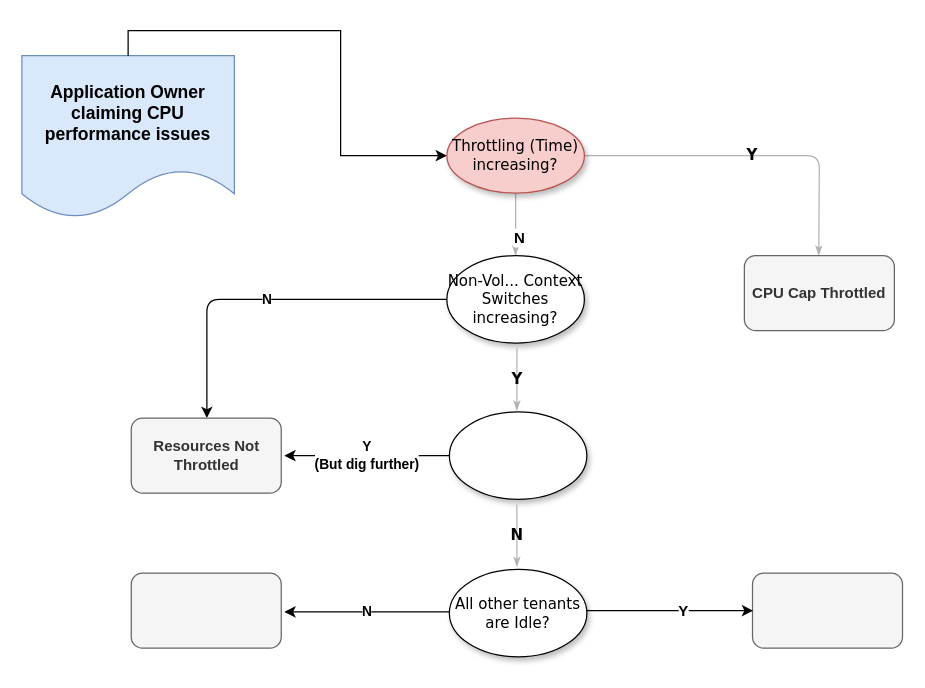
The diagram is 925 pixels wide and 688 high, and some of its shapes have lost their labels. The centre of each missing label's shape, as x and y in pixels:
CPU Share Throttled: the point at 205,610
Host CPU Throttled: the point at 826,610
Host has Idle CPU?: the point at 518,457
